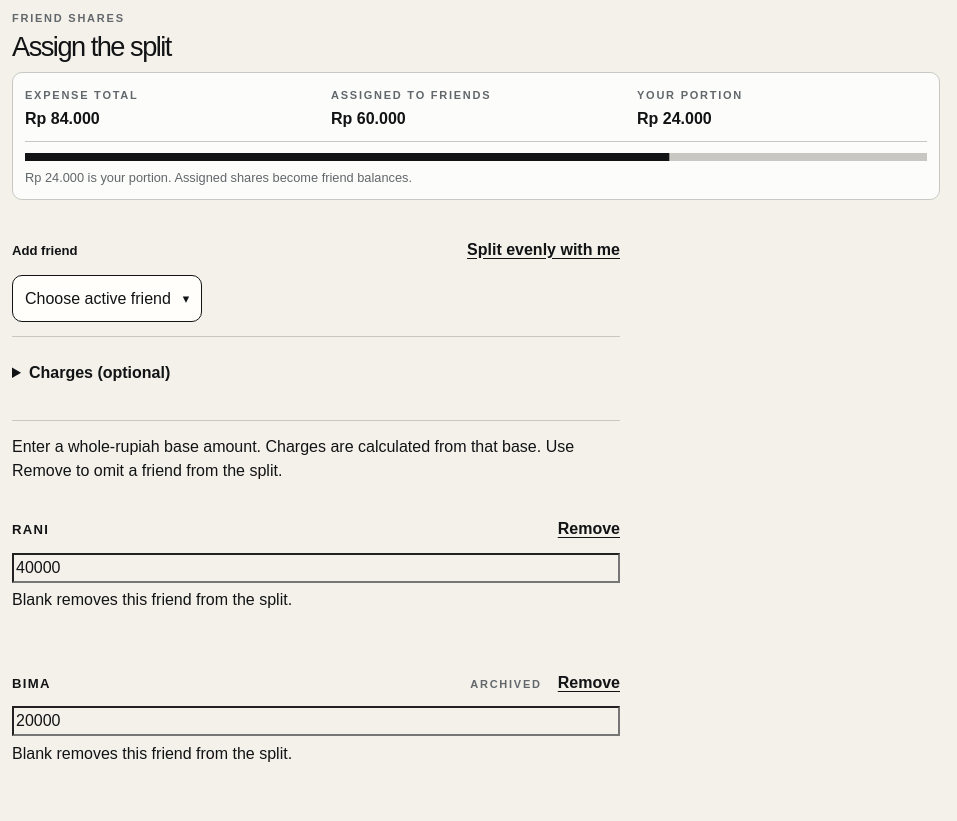
Test case: expense share editor › removes a row from the submitted split
The image size is (957, 821).
Step 1. Click the button with aria-label "Remove Rani" → (589, 529), box [558,511,620,547]
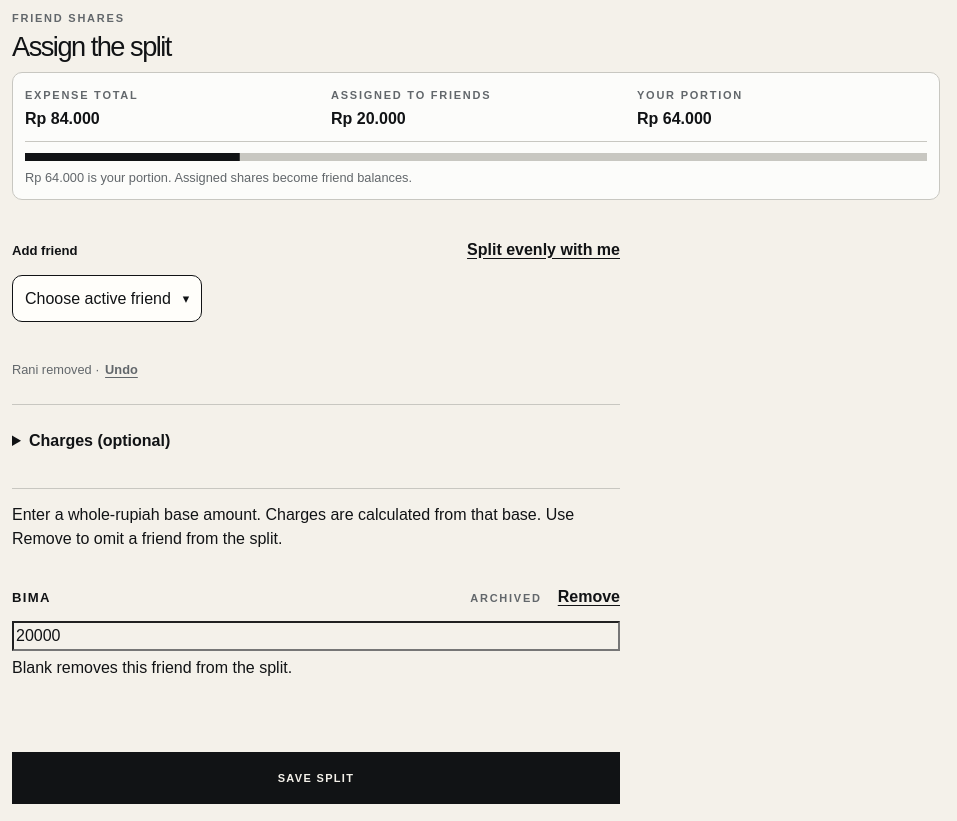
Step 2. Submit the form named "Save split", box [12,216,620,804]
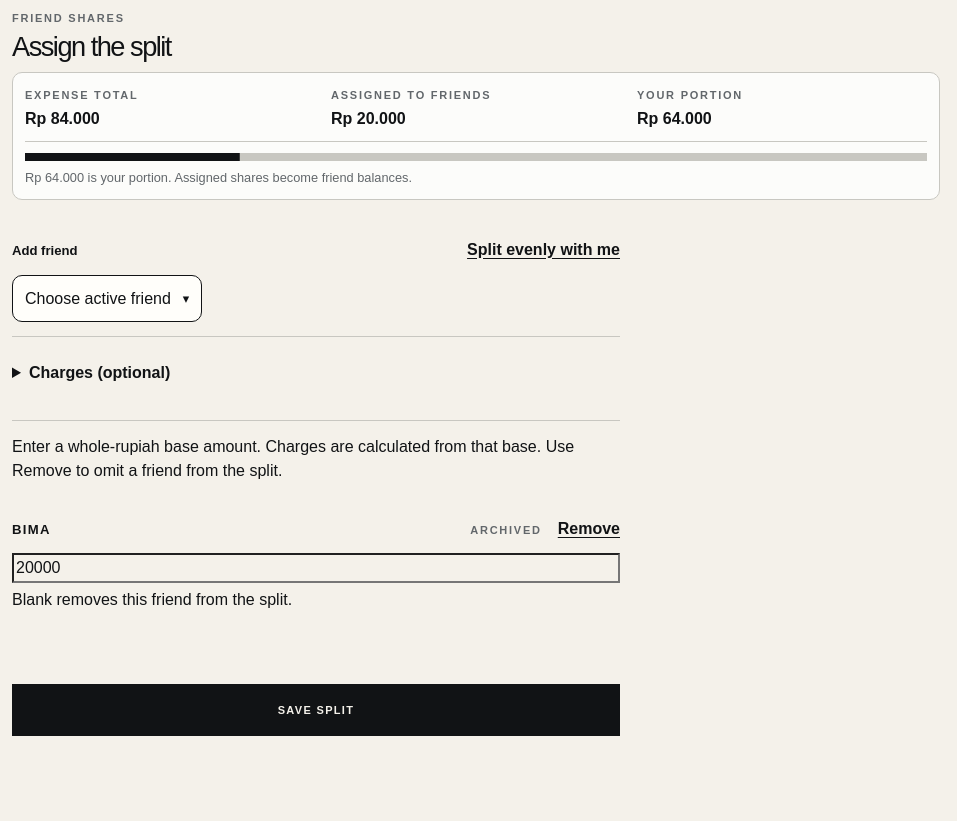
Result: the button "Undo" is gone
